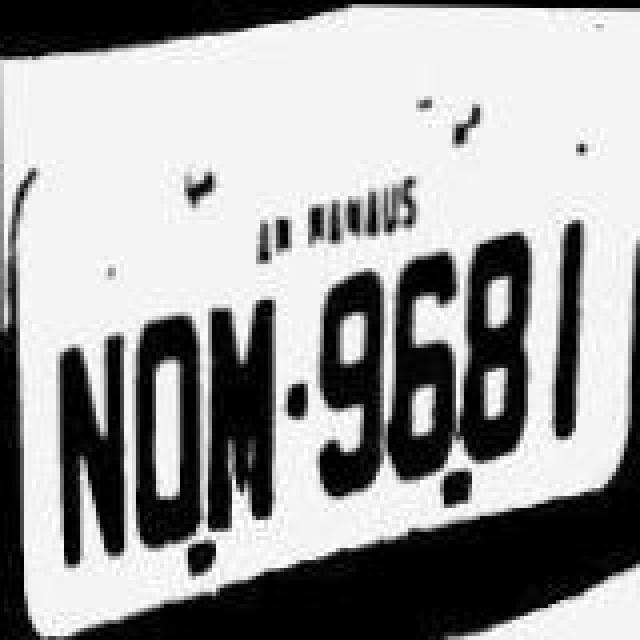1: (548, 212, 600, 448)
6: (386, 244, 458, 484)
8: (458, 228, 538, 472)
9: (308, 264, 384, 504)
M: (202, 286, 282, 534)
N: (52, 322, 128, 570)
O: (124, 300, 200, 552)
